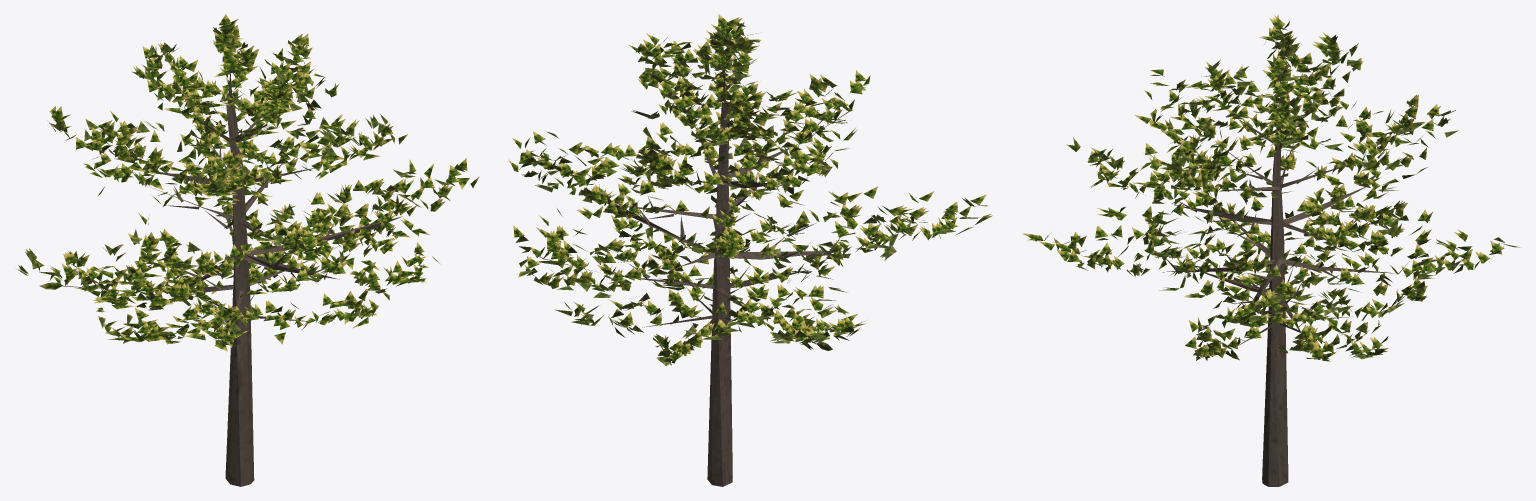
Rendered from sh-scopia-ficus-tree.glb.
3 views of the same model, side by side, from view 1: azimuth 30°, elevation 25°; view 2: azimuth 150°, elevation 25°; view 3: azimuth 270°, elevation 25° (orthographic). The views are drawn at different scales.
Parts seen in each view (by area): view 1: leaves_Plane, tree; view 2: leaves_Plane, tree; view 3: leaves_Plane, tree.
Boxes of the visible parts, x1,y1,x2,y2 form: leaves_Plane: (17,14,479,351); tree: (51,70,402,486); leaves_Plane: (508,14,992,365); tree: (533,71,848,486); leaves_Plane: (1022,14,1521,361); tree: (1105,81,1409,486).
Bounding box in the file's own units: 0.9566 × 1 × 0.9893.
2 materials, 2 textured.
